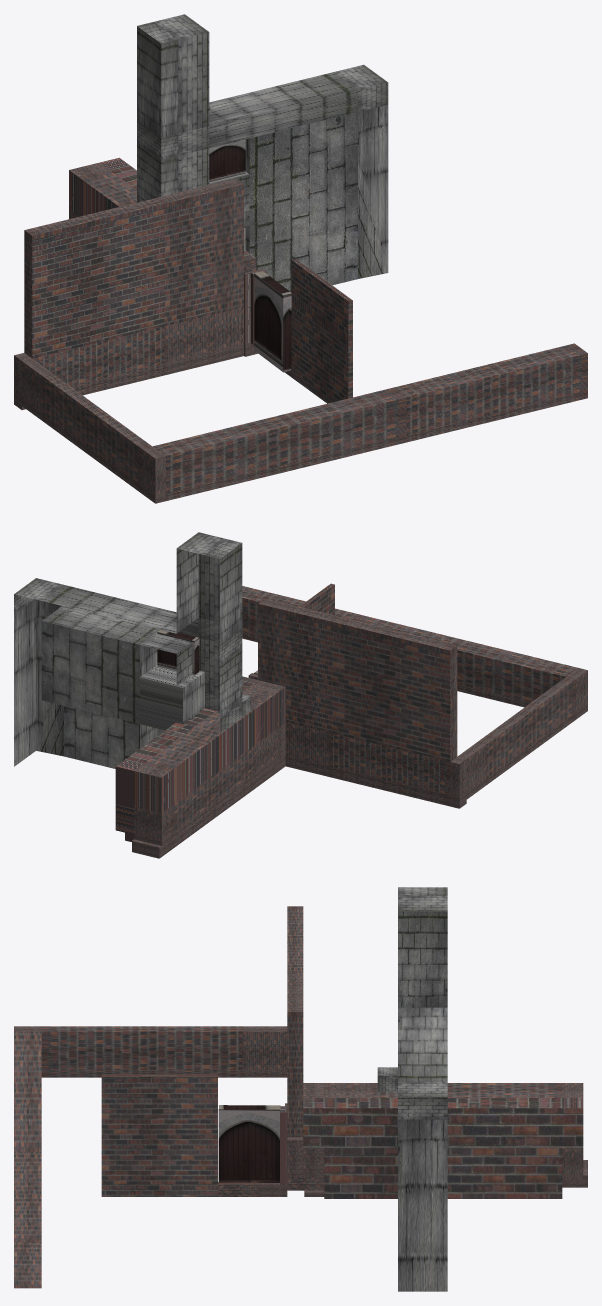
The model's file is decor3.obj.
The picture shows the model from 3 angles, top to bottom: view 1: azimuth 30°, elevation 25°; view 2: azimuth 150°, elevation 25°; view 3: azimuth 270°, elevation 25°; orthographic projection. The views are drawn at different scales.
Visible parts, largest first — view 1: Cube.009_Cube.008, Cube.012_Cube.014, Cube.047_Cube.022, Cube.014_Cube.015; view 2: Cube.009_Cube.008, Cube.012_Cube.014, Cube.014_Cube.015; view 3: Cube.009_Cube.008, Cube.012_Cube.014, Cube.047_Cube.022.
Boxes of the visible parts, x1,y1,x2,y2 form: Cube.009_Cube.008: [14, 157, 587, 503]; Cube.012_Cube.014: [137, 14, 388, 292]; Cube.047_Cube.022: [254, 271, 291, 372]; Cube.014_Cube.015: [209, 139, 245, 182]; Cube.009_Cube.008: [115, 583, 587, 858]; Cube.012_Cube.014: [14, 532, 250, 768]; Cube.014_Cube.015: [157, 630, 199, 675]; Cube.009_Cube.008: [14, 906, 587, 1288]; Cube.012_Cube.014: [377, 887, 447, 1291]; Cube.047_Cube.022: [218, 1105, 280, 1182].
Bounding box in the file's own units: 9556 × 6008 × 10735.
Materials: 3 (3 with a texture image).
